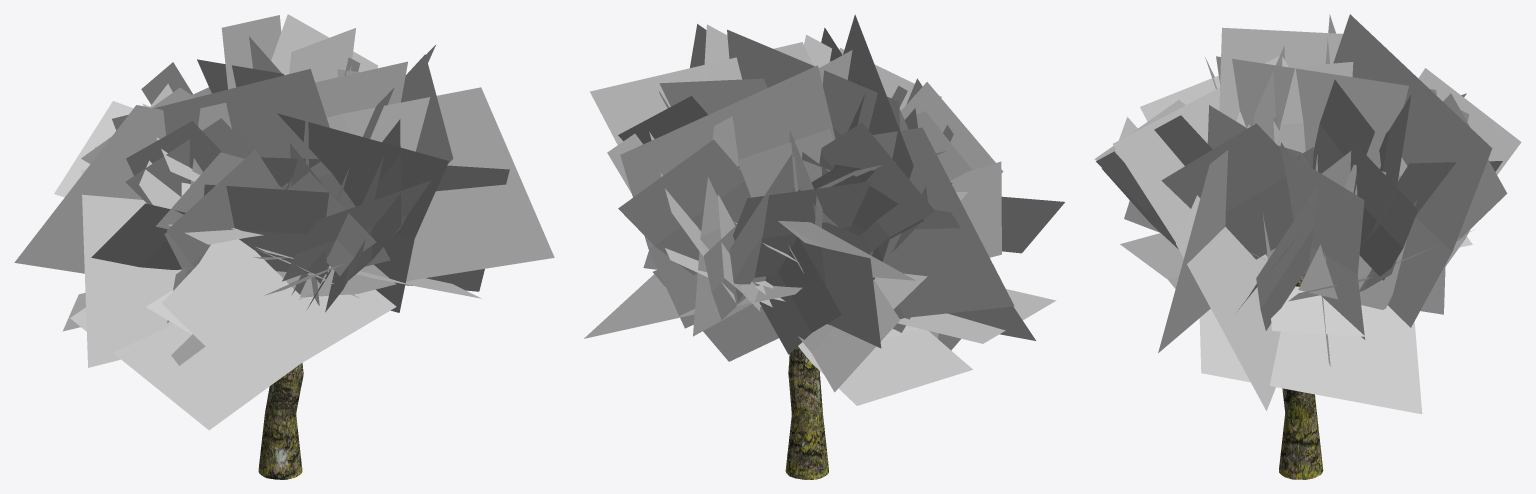
Rendered from tree.fbx.
The picture shows the model from 3 angles, left to right: view 1: azimuth 30°, elevation 25°; view 2: azimuth 150°, elevation 25°; view 3: azimuth 270°, elevation 25°; orthographic projection.
Parts seen in each view (by area): view 1: Cylinder.002; view 2: Cylinder.002; view 3: Cylinder.002.
Part boxes in pixels (x1,y1,x2,y2): Cylinder.002: [14, 14, 554, 479]; Cylinder.002: [584, 14, 1064, 479]; Cylinder.002: [1094, 14, 1521, 479].
Size of the model in its own units: 802 by 754 by 664.
